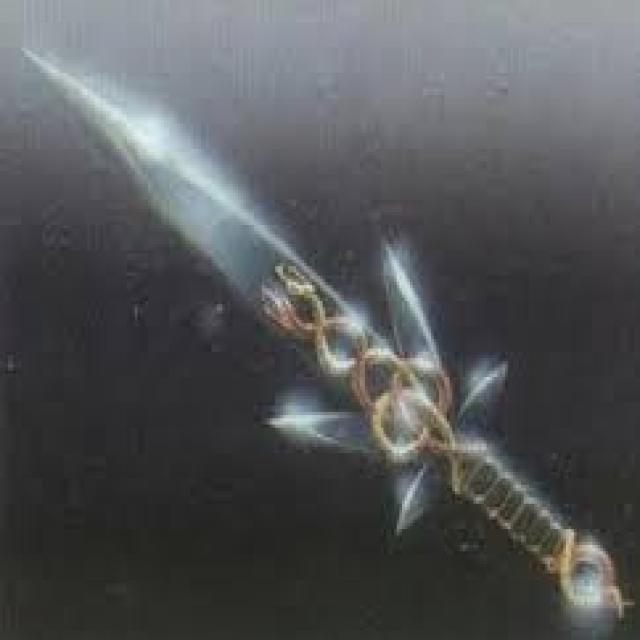Gun: (17, 35, 637, 638)
